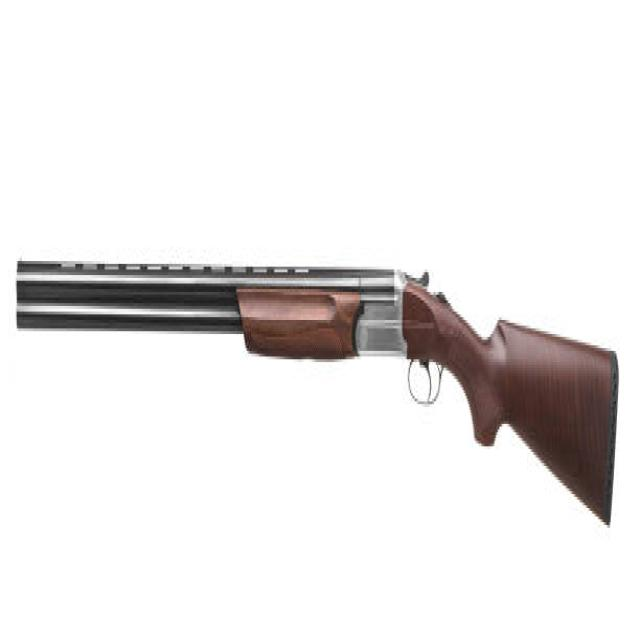rifle: (14, 236, 626, 543)
